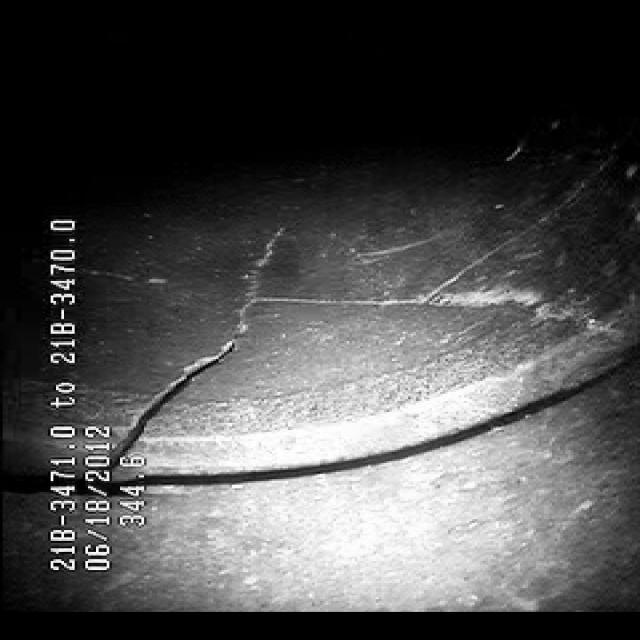Crack: (115, 300, 268, 424)
